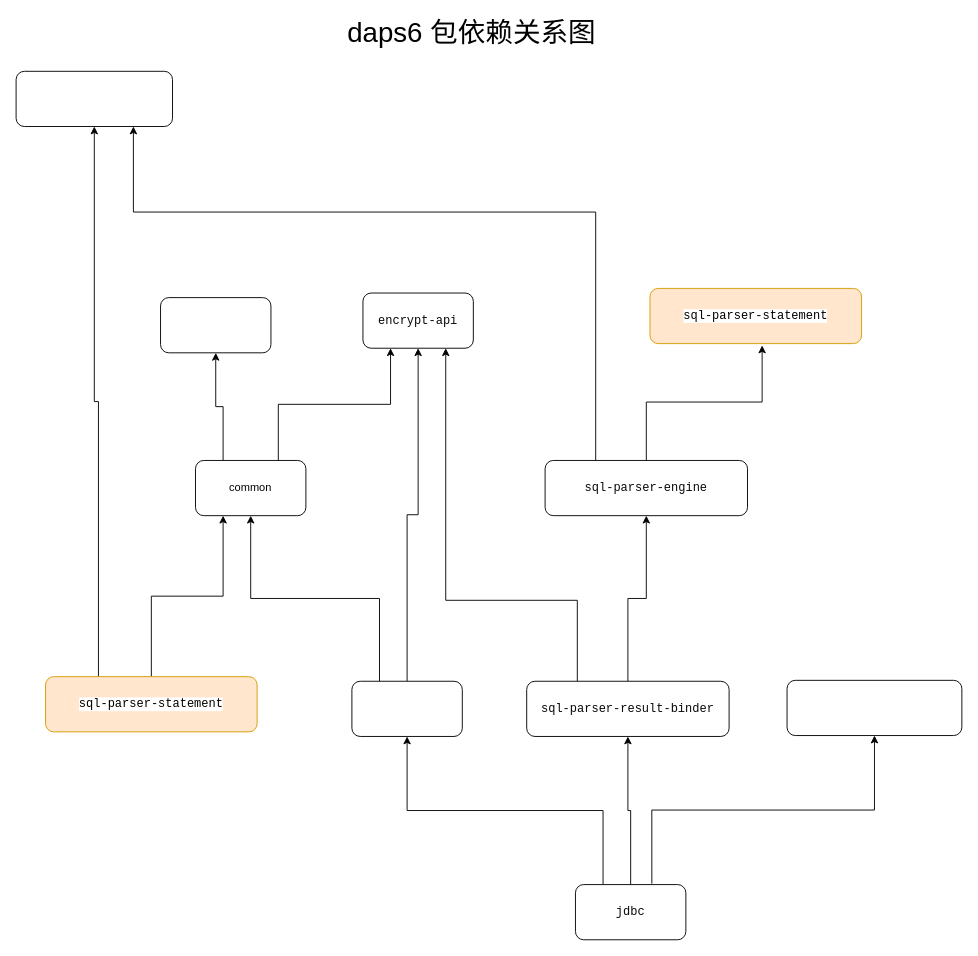
The diagram is 978 pixels wide and 956 high, and some of its shapes have lost their labels. Each missing label, with the box of its shape:
platform-rule: (351, 680, 462, 736)
spi: (160, 297, 271, 353)
sql-parser-spi: (15, 70, 172, 126)
sql-parser-xxx: (786, 679, 962, 736)
